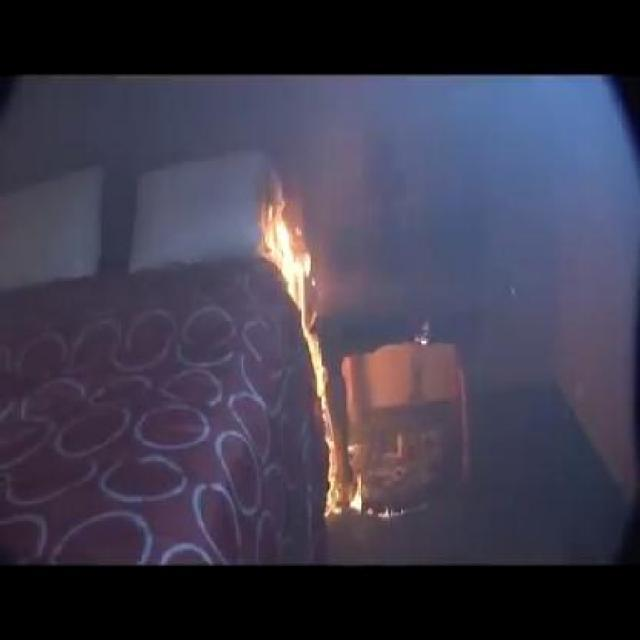fire: (260, 197, 376, 503)
